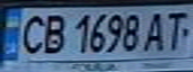1: (69, 10, 90, 54)
6: (87, 10, 109, 54)
8: (121, 11, 145, 53)
9: (103, 10, 127, 54)
A: (142, 9, 172, 53)
B: (36, 11, 69, 55)
C: (12, 11, 48, 56)
T: (160, 7, 193, 52)
